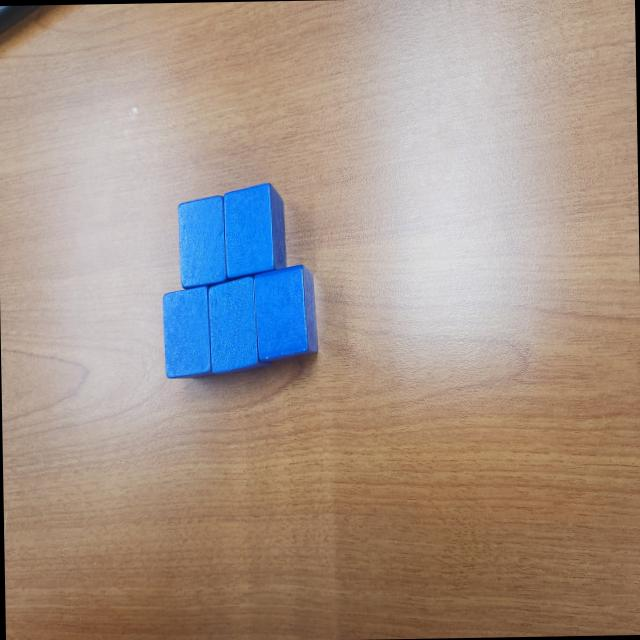blue: (207, 274, 272, 374), (253, 264, 318, 362), (222, 182, 287, 278), (162, 284, 216, 378), (177, 195, 228, 288)
